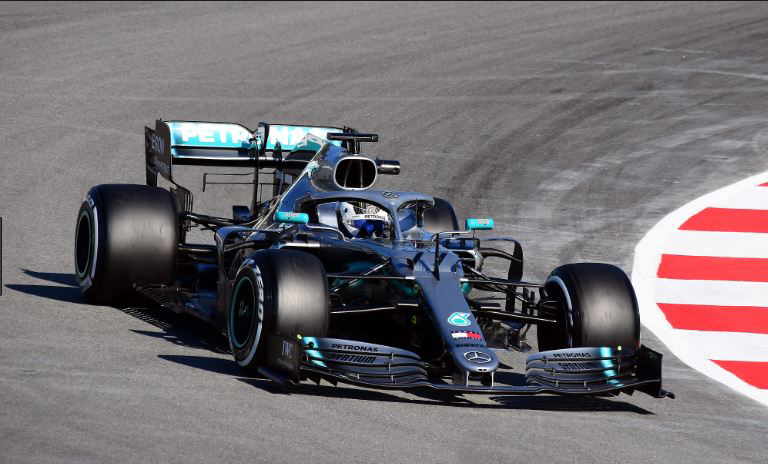F1 Car: (70, 111, 682, 411)
